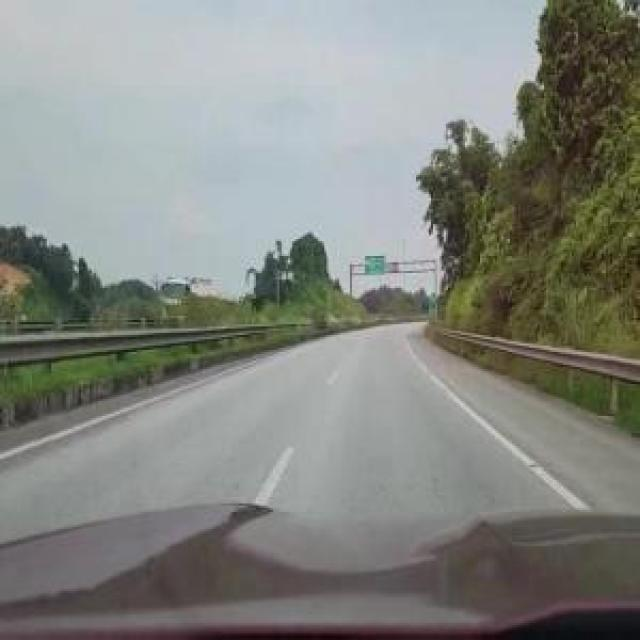clear-road: (0, 324, 640, 544)
